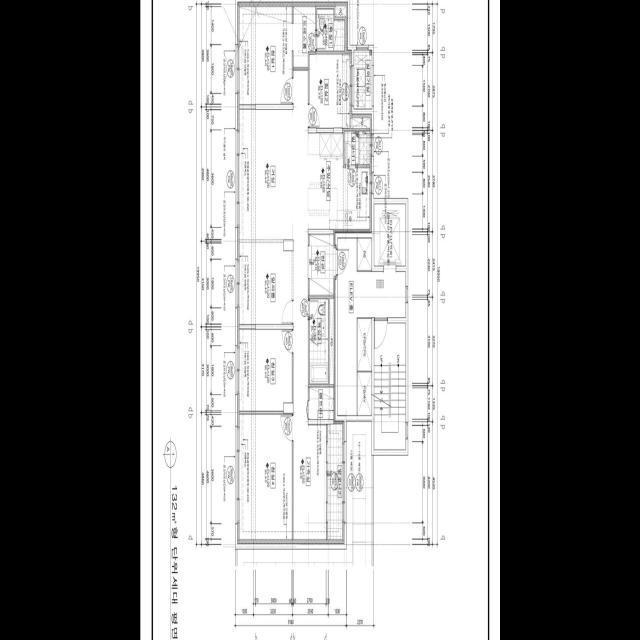background: (140, 0, 500, 640)
space_balconi: (327, 424, 342, 540), (344, 132, 358, 165)
space_bedroom: (239, 414, 292, 540), (239, 6, 292, 104), (239, 330, 292, 411), (309, 54, 349, 129)
space_dressroom: (293, 7, 315, 68)
space_elevator: (374, 204, 405, 266)
space_elevator_hall: (337, 238, 405, 416)
space_front: (309, 234, 333, 296)
space_kitchen: (308, 133, 369, 229)
space_living_room: (239, 70, 308, 425)
space_other: (239, 243, 292, 325), (293, 425, 326, 540), (353, 50, 372, 109), (309, 387, 333, 420), (357, 319, 371, 371), (357, 372, 371, 416), (357, 238, 371, 270), (329, 299, 334, 385), (359, 131, 370, 165), (351, 118, 370, 129), (335, 6, 346, 17)
space_staircase: (374, 323, 405, 450)
space_toilet: (309, 299, 328, 385), (317, 10, 344, 50)
